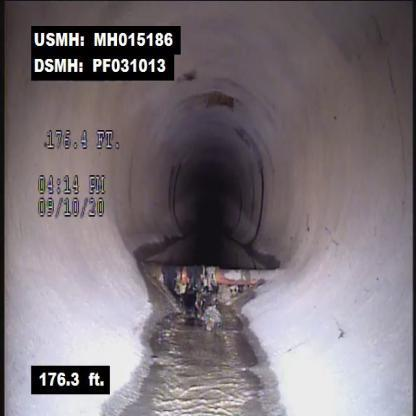crack: (348, 6, 414, 210)
